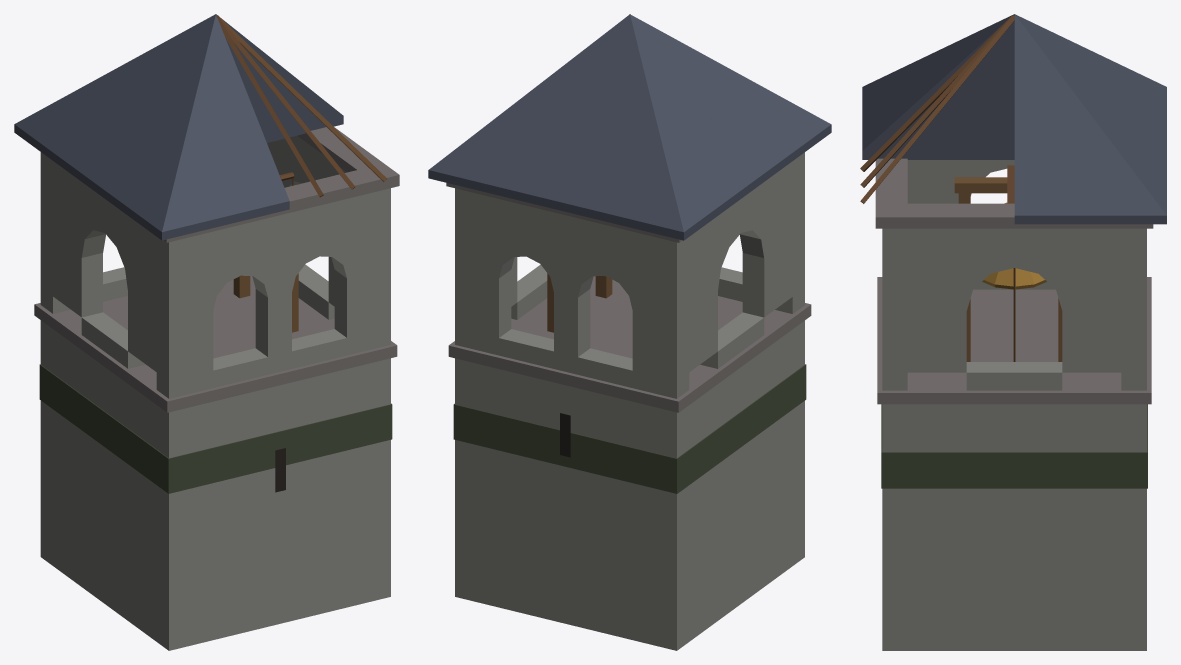
The model's file is DrownedBelfry.fbx.
3 views of the same model, side by side, from view 1: azimuth 30°, elevation 25°; view 2: azimuth 150°, elevation 25°; view 3: azimuth 270°, elevation 25° (orthographic). The views are drawn at different scales.
Parts seen in each view (by area): view 1: DrownedBelfry; view 2: DrownedBelfry; view 3: DrownedBelfry.
Part boxes in pixels (<box>): DrownedBelfry: <box>14,14,399,650</box>; DrownedBelfry: <box>428,14,831,650</box>; DrownedBelfry: <box>860,14,1166,650</box>.
Size of the model in its own units: 3.82 by 8.04 by 3.85.
